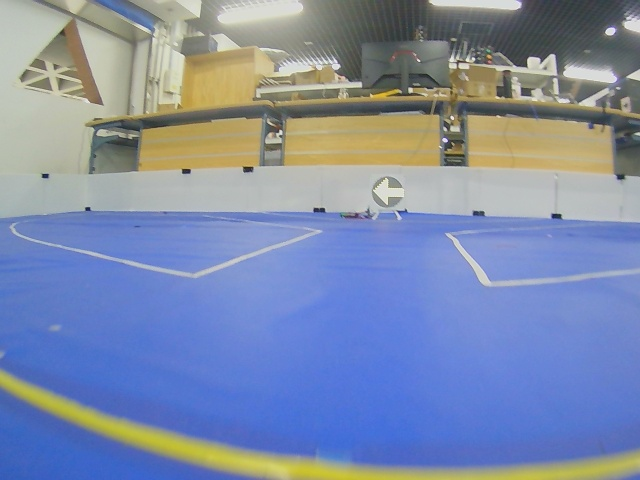left_yellow: (372, 176, 405, 208)
